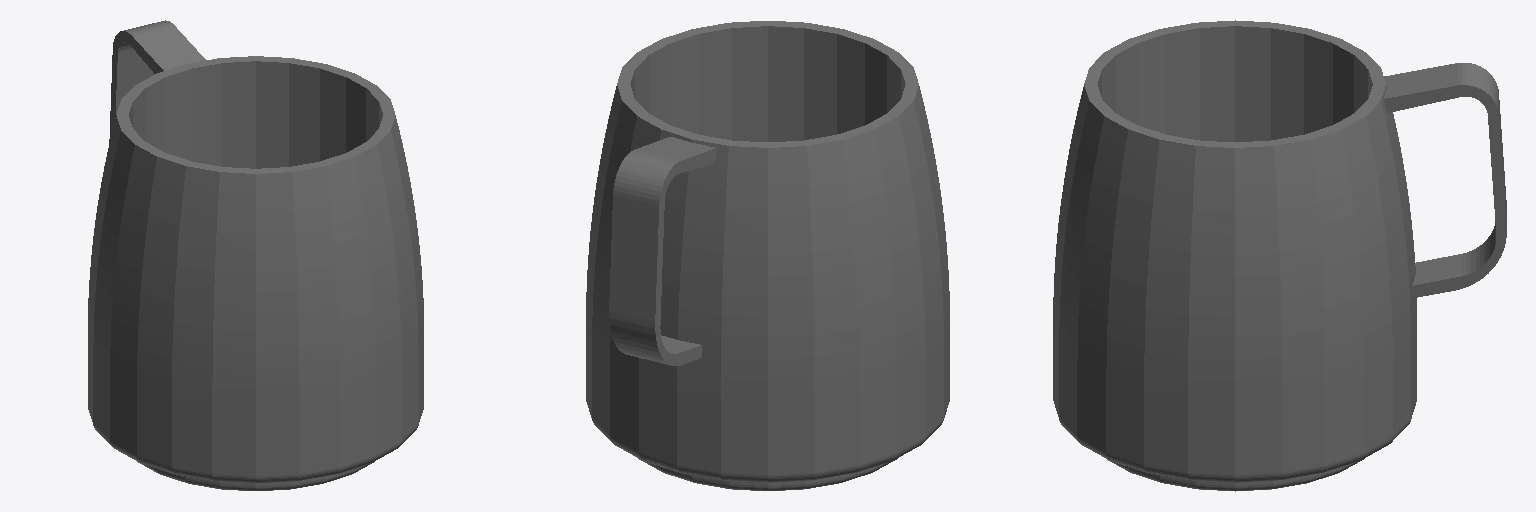
The robot description file, URDF, robot "object":
<?xml version="1.0"?>
<robot name="object">
  <link name="object">
    <visual>
      <origin xyz="0 0 0"/>
      <geometry>
        <mesh
          filename="../../mesh/oakink/mug_s003.stl" />
      </geometry>
      <material name="mat">
        <color rgba="0.5 0.5 0.5 1"/>
      </material>
    </visual>

    <collision>
      <origin xyz="0 0 0"/>
      <geometry>
        <mesh
          filename="../../mesh/oakink/mug_s003.stl" />
      </geometry>
    </collision>
  </link>
</robot>

--- Facts derived from the render (not from the file) ---
The picture shows the robot from 3 angles, left to right: view 1: azimuth 30°, elevation 25°; view 2: azimuth 150°, elevation 25°; view 3: azimuth 270°, elevation 25°; orthographic projection.
Robot: object — 1 links, 0 joints (none); root link object; default pose: every joint at zero.
Links seen in each view (by area): view 1: object; view 2: object; view 3: object.
Link boxes in pixels (<box>): object: <box>88,20,423,490</box>; object: <box>586,21,949,490</box>; object: <box>1053,20,1506,491</box>.
Bounding box of the posed robot: 0.0914 × 0.1139 × 0.0988 m (x, y, z).
1 mesh visuals loaded from 1 distinct referenced files (1 binary STL).